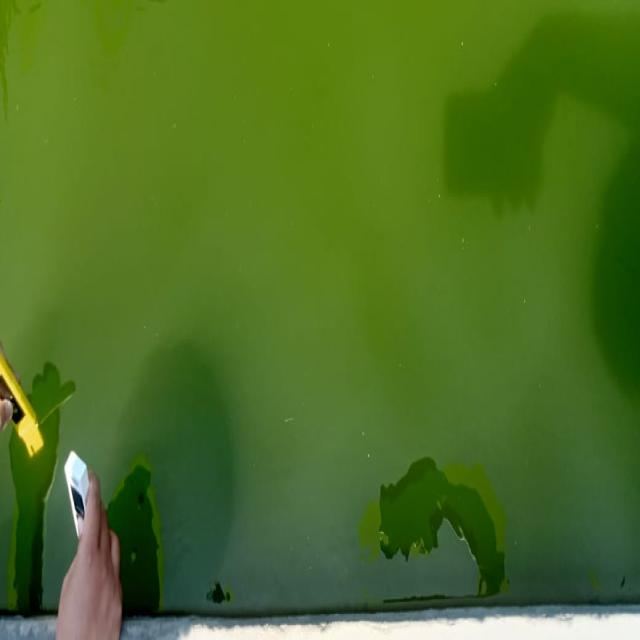Ponds: (128, 1, 640, 640)
